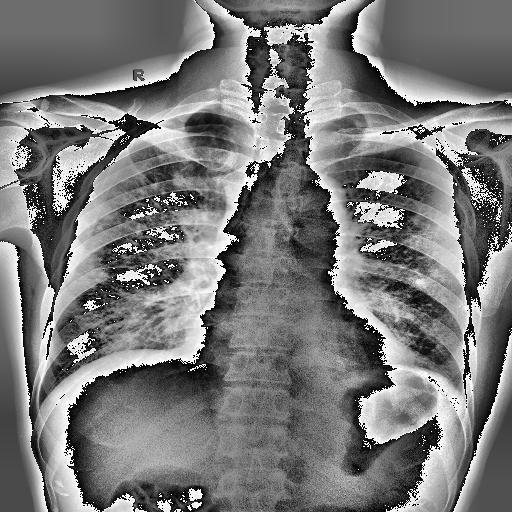0- Aortic enlargement: (276, 167, 346, 252), (292, 166, 346, 254), (289, 172, 347, 236)
11- Pleural thickening: (338, 106, 410, 132)
13- Pulmonary fibrosis: (415, 248, 457, 286), (126, 177, 164, 217)
5- ILD: (108, 288, 188, 348)
6- Infiltration: (104, 289, 186, 355), (82, 285, 165, 346), (409, 267, 451, 289)
